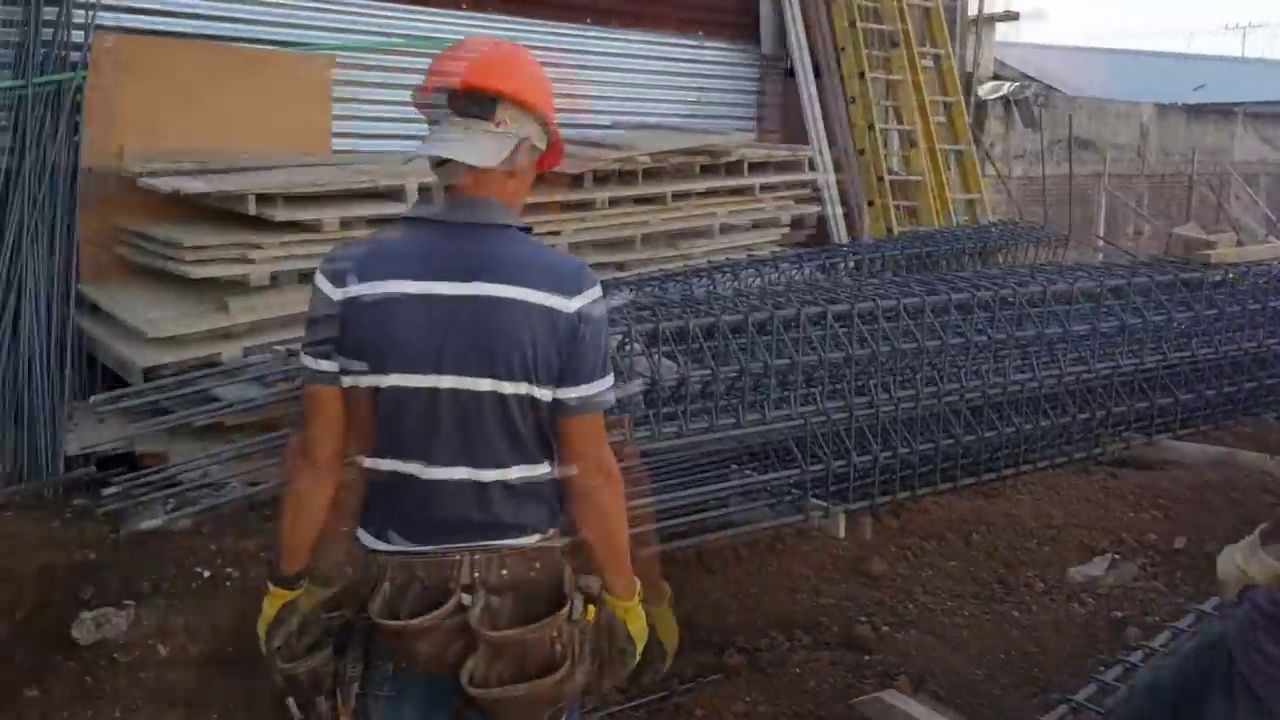helmet: (412, 28, 564, 169)
helmet-on: (408, 29, 565, 224)
person: (265, 26, 663, 707)
